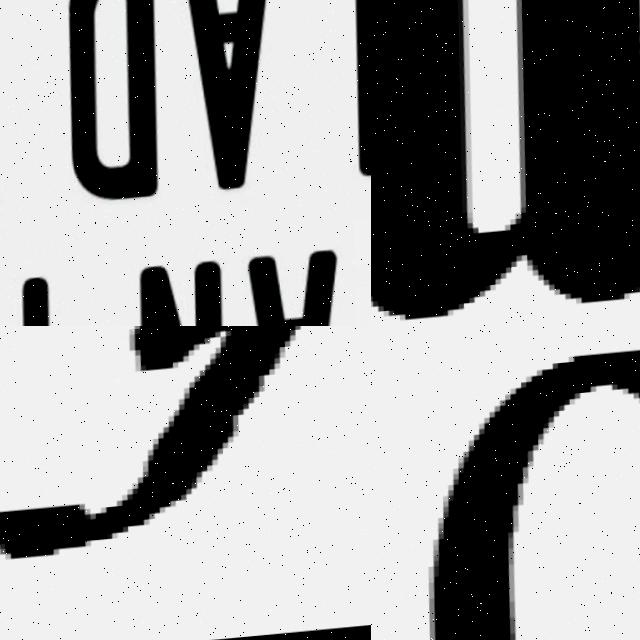0: (390, 333, 640, 640)
A: (162, 0, 294, 196), (233, 251, 364, 326)
D: (48, 0, 175, 205)
L: (280, 0, 371, 185)
M: (371, 0, 640, 326)
N: (125, 258, 248, 326)
